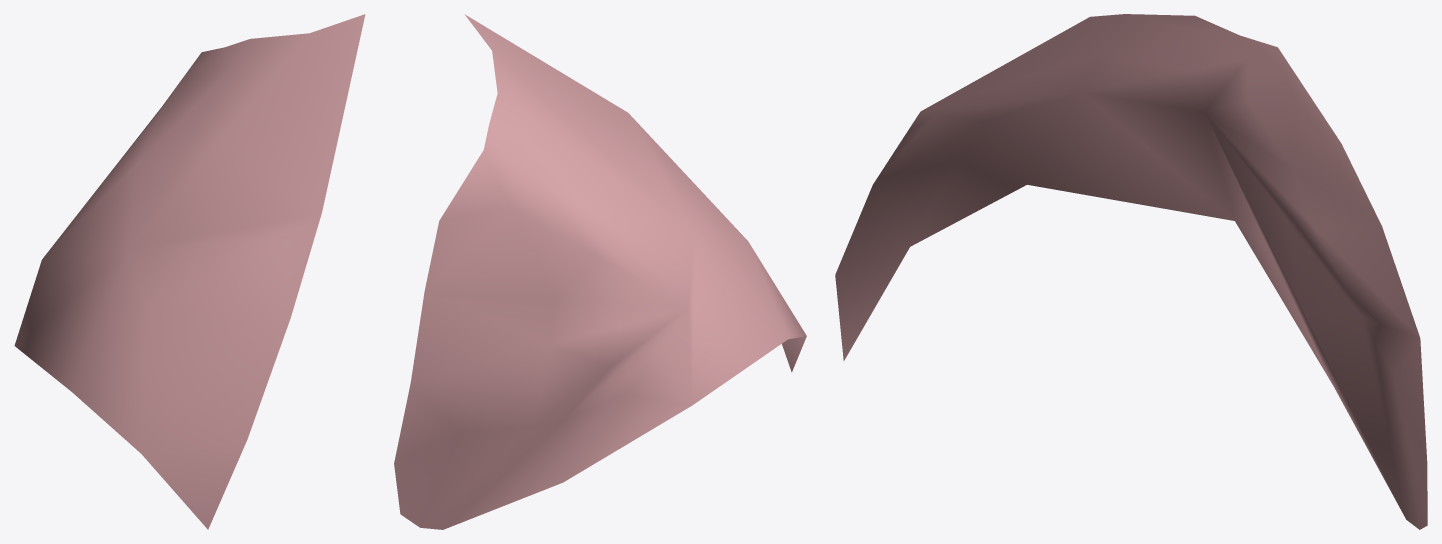
The picture shows the model from 3 angles, left to right: view 1: azimuth 30°, elevation 25°; view 2: azimuth 150°, elevation 25°; view 3: azimuth 270°, elevation 25°; orthographic projection. The views are drawn at different scales.
Visible parts, largest first — view 1: ZA_2b93d224f3132cda; view 2: ZA_2b93d224f3132cda; view 3: ZA_2b93d224f3132cda.
Part boxes in pixels (left/top/right/bottom): ZA_2b93d224f3132cda: left=14, top=14, right=365, bottom=529; ZA_2b93d224f3132cda: left=394, top=14, right=806, bottom=529; ZA_2b93d224f3132cda: left=835, top=14, right=1427, bottom=529.
Size of the model in its own units: 0.00671 by 0.00872 by 0.00828.
